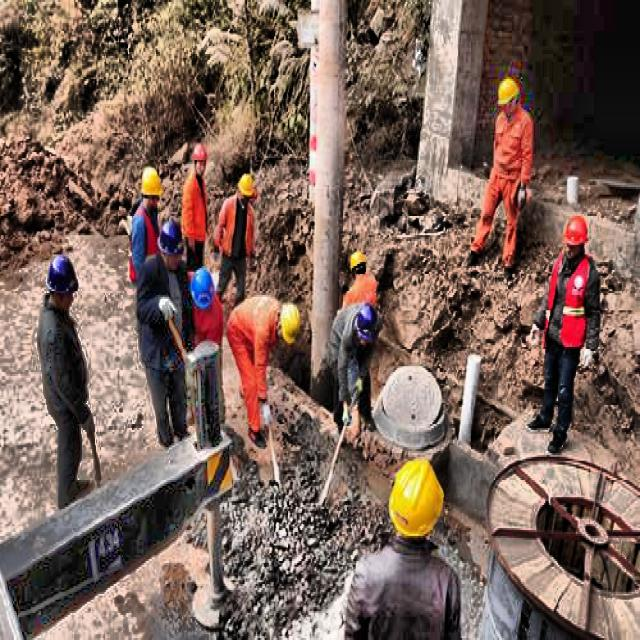helmet: (389, 459, 447, 549), (44, 253, 80, 314), (561, 212, 591, 262), (351, 299, 379, 347), (158, 222, 185, 270), (190, 268, 218, 310), (494, 73, 520, 116), (276, 301, 300, 347), (139, 168, 164, 212), (346, 248, 368, 280), (234, 168, 253, 204), (188, 140, 208, 173)
